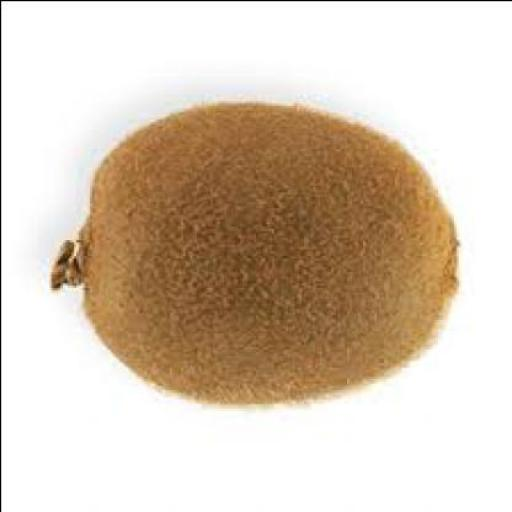biodegradable: (48, 104, 453, 408)
